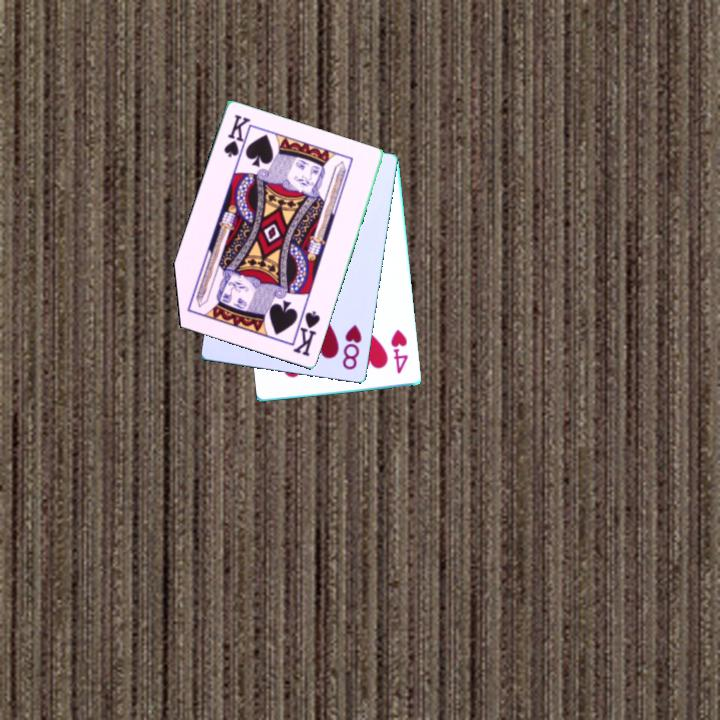4h: (388, 326, 411, 377)
8h: (339, 321, 365, 373)
Ks: (290, 307, 323, 360), (220, 111, 253, 161)
